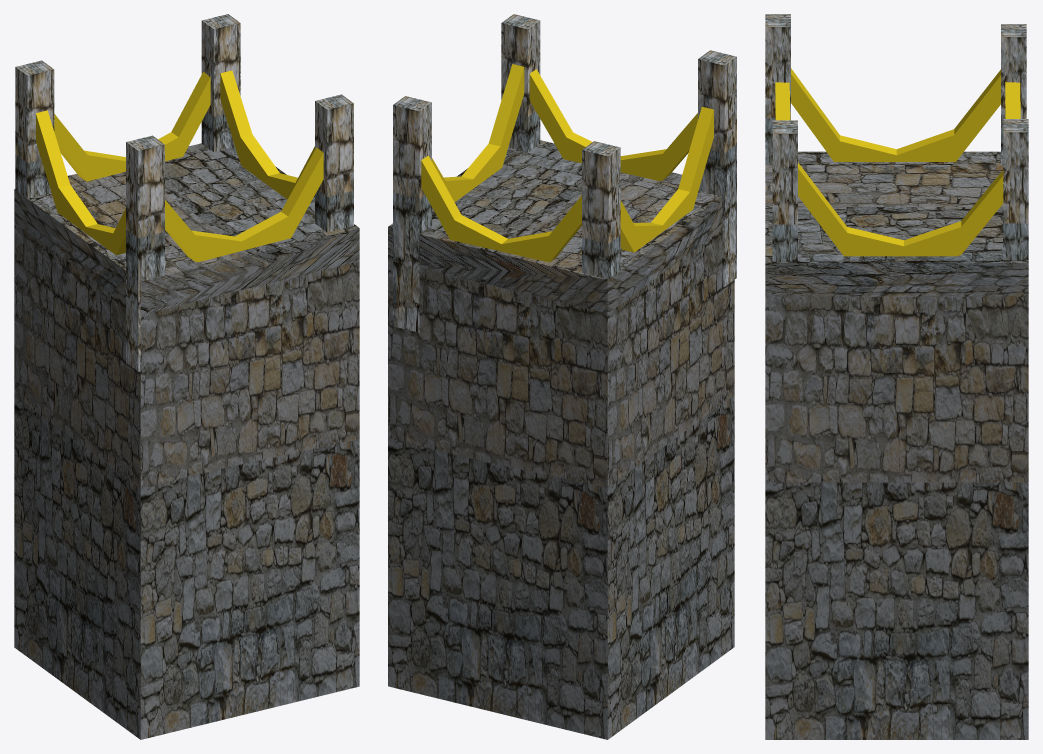
File: foundationconstruction.glb
3 renders of one model, left to right at view 1: azimuth 30°, elevation 25°; view 2: azimuth 150°, elevation 25°; view 3: azimuth 270°, elevation 25°, orthographic. The views are drawn at different scales.
Visible parts, largest first — view 1: Cube, Cube.003; view 2: Cube, Cube.003; view 3: Cube, Cube.003.
Part boxes in pixels (x1,y1,x2,y2): Cube: [14, 143, 359, 739]; Cube.003: [15, 14, 353, 371]; Cube: [388, 140, 734, 739]; Cube.003: [393, 14, 736, 332]; Cube: [765, 151, 1028, 739]; Cube.003: [765, 14, 1028, 261].
Size of the model in its own units: 1.01 by 2.57 by 1.
Materials: 9 (5 with a texture image).
